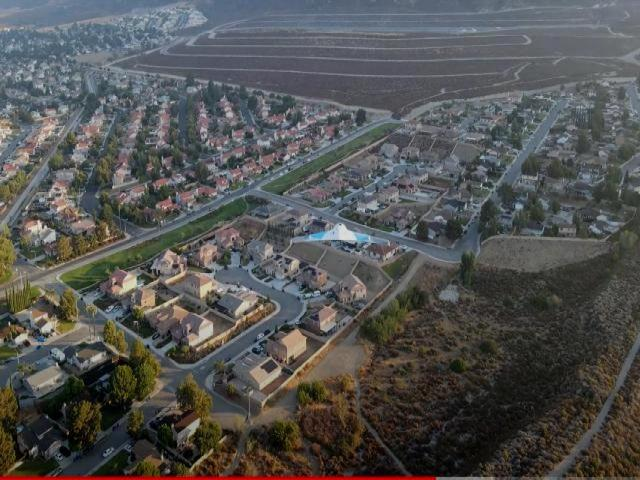iha: (290, 221, 389, 253)
